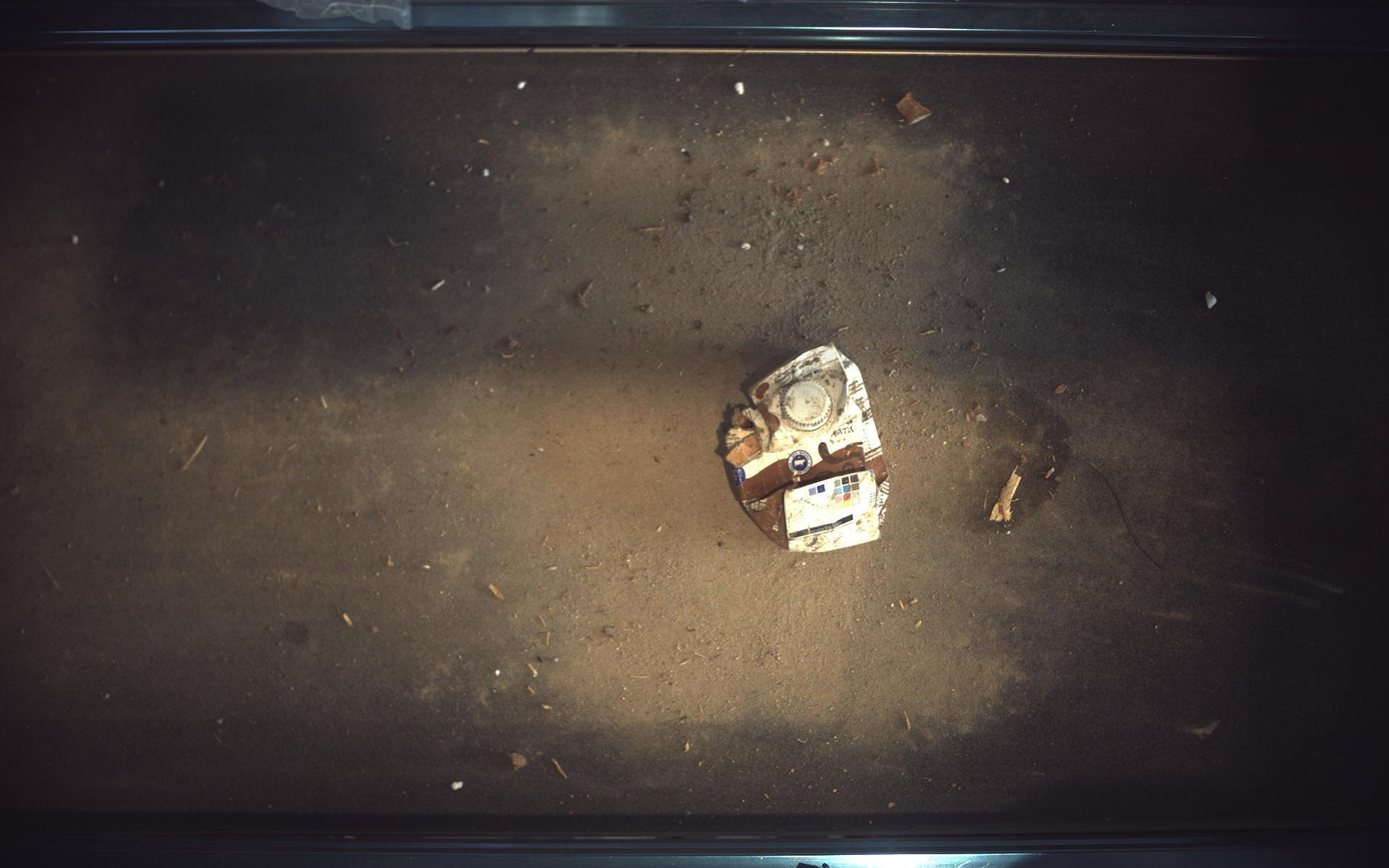general_w: (726, 344, 891, 553)
